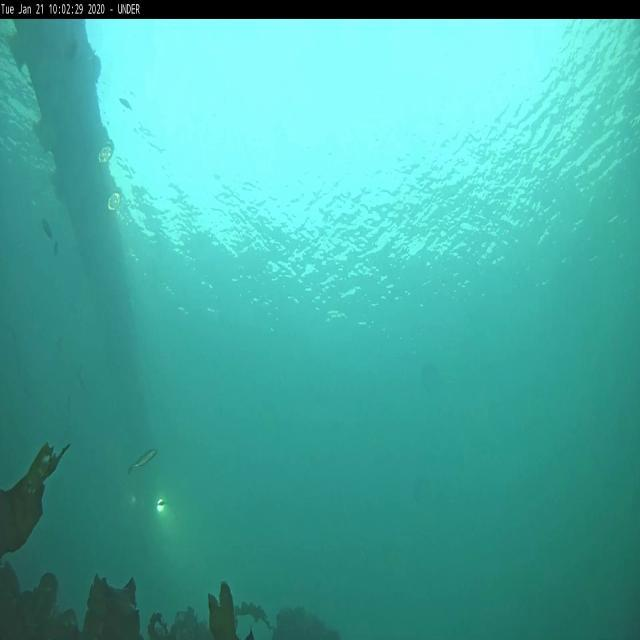fish: (127, 448, 157, 476), (42, 217, 60, 258), (118, 98, 134, 111)
